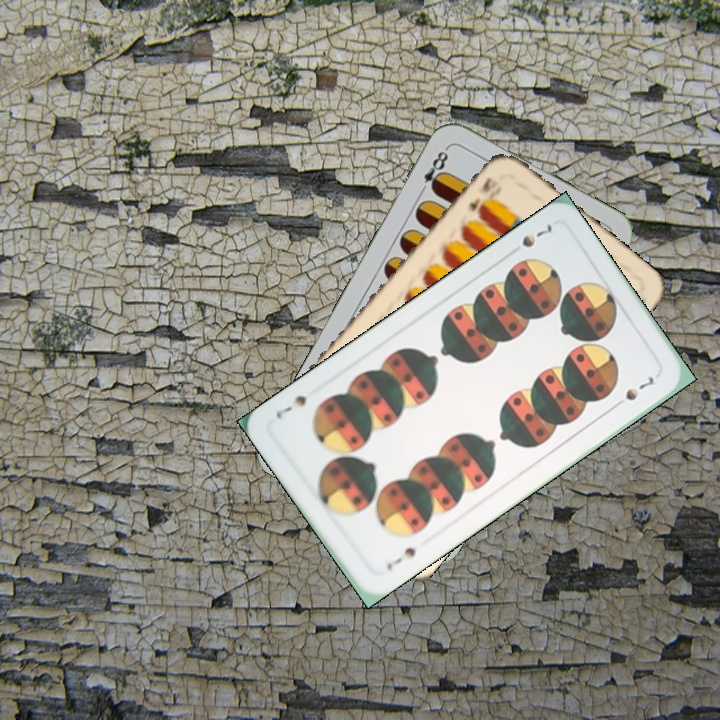E10: (465, 172, 503, 215)
E8: (415, 143, 451, 197)
S7: (517, 219, 555, 250), (382, 543, 419, 574)
